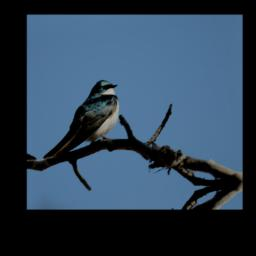Swallow: (35, 77, 126, 161)
